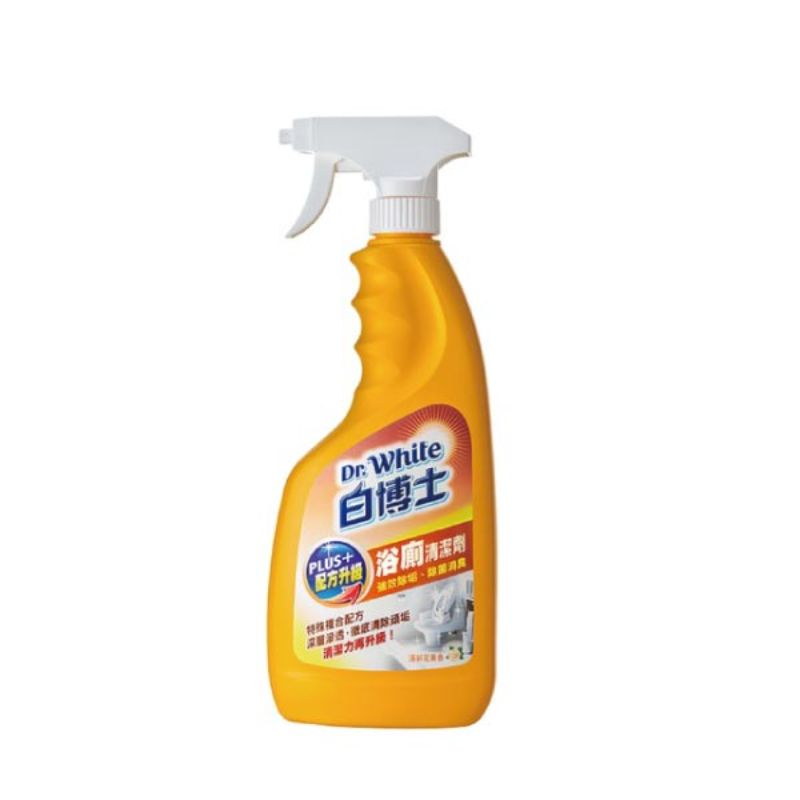cleaner: (271, 115, 506, 740)
